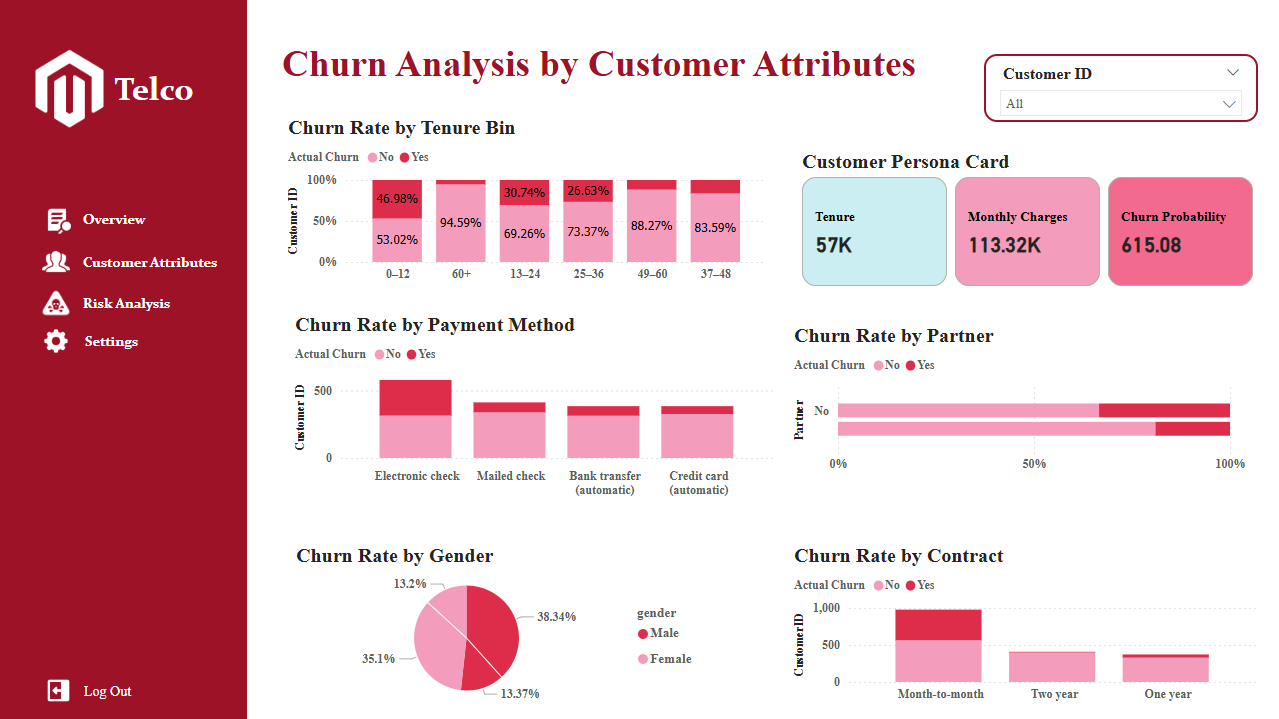

This screenshot's page, from the dashboard's own definition file:
{"tool":"powerbi","page":{"name":"Customer Attributes","canvas":[1280,720],"ordinal":1},"visuals":[{"type":"shape","box":[0,0,247,720],"z":0},{"type":"textbox","box":[96,65,116,66],"z":1000},{"type":"actionButton","box":[37.8,230,173.3,33.3],"z":2000},{"type":"actionButton","box":[70,318.9,100,40],"z":3000},{"type":"textbox","box":[78,206,116,43],"z":4000},{"type":"textbox","box":[78,249,176,42],"z":5000},{"type":"textbox","box":[78,290,152,42],"z":6000},{"type":"textbox","box":[79,678,152,42],"z":7000},{"type":"image","box":[34.4,282.2,42.2,42.2],"z":8000},{"type":"image","box":[28.9,243.3,53.3,37.8],"z":9000},{"type":"image","box":[35.6,671.1,44.4,38.9],"z":10000},{"type":"textbox","box":[80,328,152,38],"z":11000},{"type":"image","box":[14.4,318.9,82.2,44.4],"z":12000},{"type":"image","box":[8.9,41.1,121.1,94.4],"z":13000},{"type":"image","box":[25.6,202.2,62.2,36.7],"z":14000},{"type":"hundredPercentStackedColumnChart","title":"Churn Rate by Tenure Bin","fields":{"Series":["final_churn_data.Actual Churn"],"Category":["final_churn_data.TenureBin"],"Y":["CountNonNull(final_churn_data.customerID)"]},"box":[283,116,489,174],"z":15000},{"type":"columnChart","title":"Churn Rate by Payment Method","fields":{"Series":["final_churn_data.Actual Churn"],"Y":["CountNonNull(final_churn_data.customerID)"],"Category":["final_churn_data.PaymentMethod"]},"box":[290,313,489,192],"z":16000},{"type":"columnChart","title":"Churn Rate by Contract","fields":{"Series":["final_churn_data.Actual Churn"],"Category":["final_churn_data.Contract"],"Y":["CountNonNull(final_churn_data.customerID)"]},"box":[789,544,475,166],"z":17000},{"type":"pieChart","title":"Churn Rate by Gender","fields":{"Category":["final_churn_data.gender"],"Y":["CountNonNull(final_churn_data.customerID)"],"Series":["final_churn_data.Actual Churn"]},"box":[291,544,415,166],"z":18000},{"type":"hundredPercentStackedBarChart","title":"Churn Rate by Partner ","fields":{"Series":["final_churn_data.Actual Churn"],"Y":["CountNonNull(final_churn_data.customerID)"],"Category":["final_churn_data.Partner"]},"box":[789,324,461,156],"z":19000},{"type":"cardVisual","title":"Customer Persona Card","fields":{"Data":["Sum(final_churn_data.tenure)","Sum(final_churn_data.MonthlyCharges)","Sum(final_churn_data.Churn Probability)"]},"box":[797,150,461,141],"z":20000},{"type":"slicer","fields":{"Values":["final_churn_data.customerID"]},"box":[984,54,274,68],"z":21000},{"type":"textbox","box":[277,37,767,59],"z":22000},{"type":"actionButton","box":[29,206,191,33],"z":23000},{"type":"actionButton","box":[24,290,191,33],"z":24000}]}

Visuals, with their boxes in screenshot pixels (x1, y1, x2, y2), scaled from the page's 1280x720 canvas onto the 1279x719 screenshot:
shape: pyautogui.locateOnScreen(0, 0, 247, 718)
textbox: pyautogui.locateOnScreen(96, 65, 212, 131)
actionButton: pyautogui.locateOnScreen(38, 230, 211, 263)
actionButton: pyautogui.locateOnScreen(70, 318, 170, 358)
textbox: pyautogui.locateOnScreen(78, 206, 194, 249)
textbox: pyautogui.locateOnScreen(78, 249, 254, 291)
textbox: pyautogui.locateOnScreen(78, 290, 230, 332)
textbox: pyautogui.locateOnScreen(79, 677, 231, 718)
image: pyautogui.locateOnScreen(34, 282, 77, 324)
image: pyautogui.locateOnScreen(29, 243, 82, 281)
image: pyautogui.locateOnScreen(36, 670, 80, 709)
textbox: pyautogui.locateOnScreen(80, 328, 232, 365)
image: pyautogui.locateOnScreen(14, 318, 97, 363)
image: pyautogui.locateOnScreen(9, 41, 130, 135)
image: pyautogui.locateOnScreen(26, 202, 88, 239)
"Churn Rate by Tenure Bin" hundredPercentStackedColumnChart: pyautogui.locateOnScreen(283, 116, 771, 290)
"Churn Rate by Payment Method" columnChart: pyautogui.locateOnScreen(290, 313, 778, 504)
"Churn Rate by Contract" columnChart: pyautogui.locateOnScreen(788, 543, 1263, 709)
"Churn Rate by Gender" pieChart: pyautogui.locateOnScreen(291, 543, 705, 709)
"Churn Rate by Partner " hundredPercentStackedBarChart: pyautogui.locateOnScreen(788, 324, 1249, 479)
"Customer Persona Card" cardVisual: pyautogui.locateOnScreen(796, 150, 1257, 291)
slicer - final_churn_data.customerID: pyautogui.locateOnScreen(983, 54, 1257, 122)
textbox: pyautogui.locateOnScreen(277, 37, 1043, 96)
actionButton: pyautogui.locateOnScreen(29, 206, 220, 239)
actionButton: pyautogui.locateOnScreen(24, 290, 215, 323)
